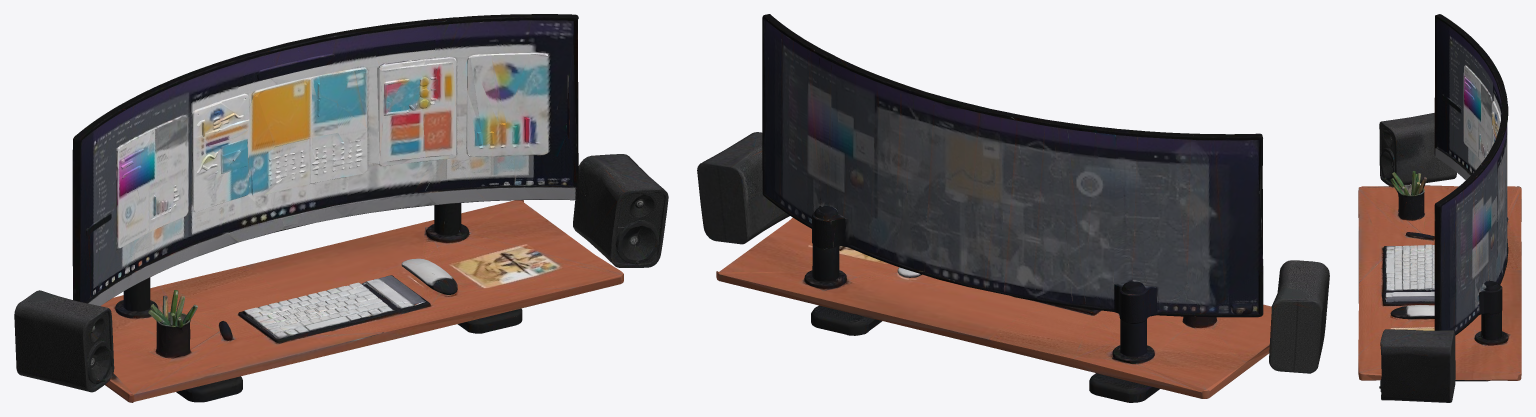
File: ws_designer.glb
3 views of the same model, side by side, from view 1: azimuth 30°, elevation 25°; view 2: azimuth 150°, elevation 25°; view 3: azimuth 270°, elevation 25° (orthographic). The views are drawn at different scales.
Bounding box in the file's own units: 1.9 × 0.7772 × 0.5548.
Materials: 1 (1 with a texture image).
